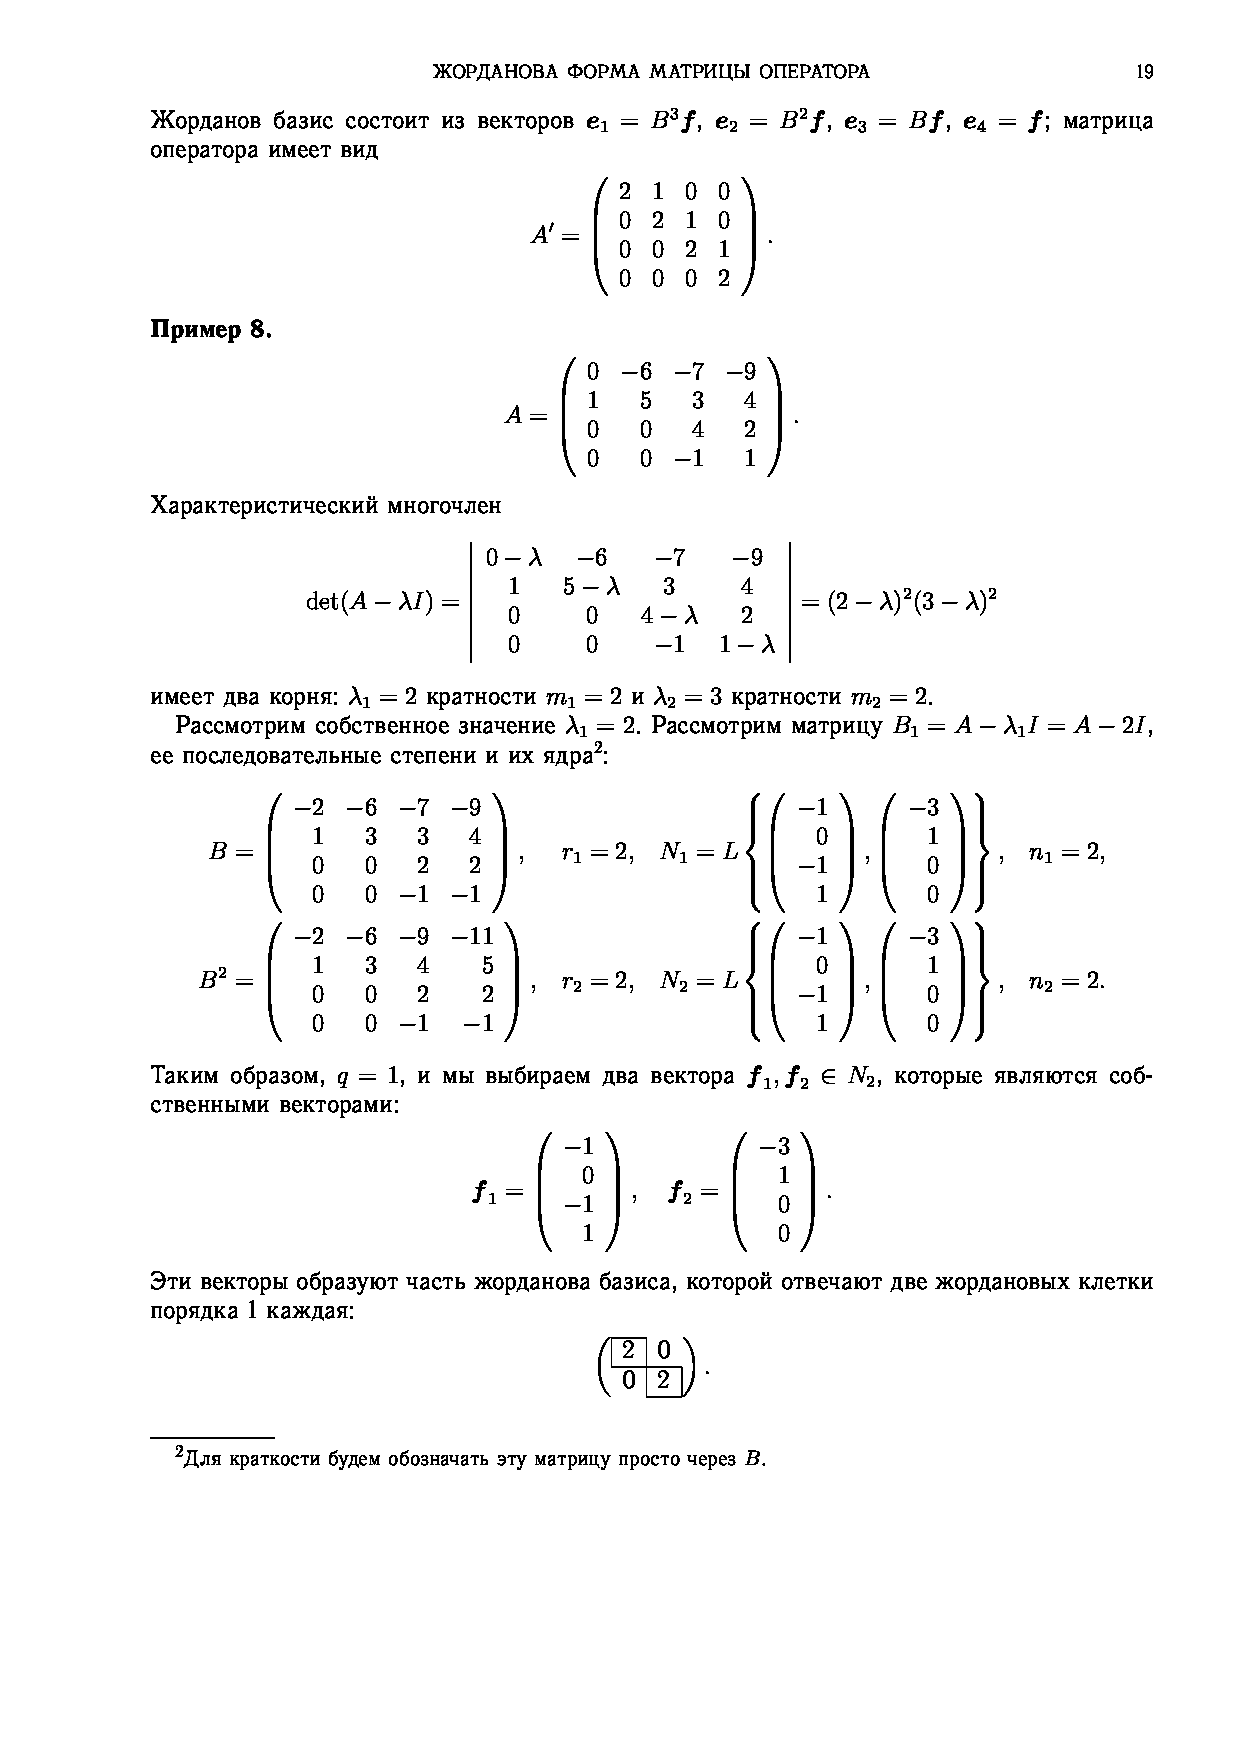lMatrix: (468, 535, 798, 678)
pMatrix: (264, 918, 519, 1049), (266, 786, 509, 917), (560, 352, 788, 487), (590, 170, 760, 306), (880, 917, 966, 1045), (770, 786, 855, 917), (879, 792, 964, 921), (772, 919, 856, 1048), (534, 1130, 619, 1259), (731, 1133, 816, 1261), (595, 1335, 699, 1406)
